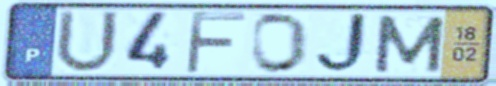4: (120, 9, 180, 76)
F: (182, 9, 250, 76)
J: (312, 11, 376, 77)
M: (371, 13, 448, 75)
O: (250, 10, 311, 76)
U: (51, 7, 122, 76)
